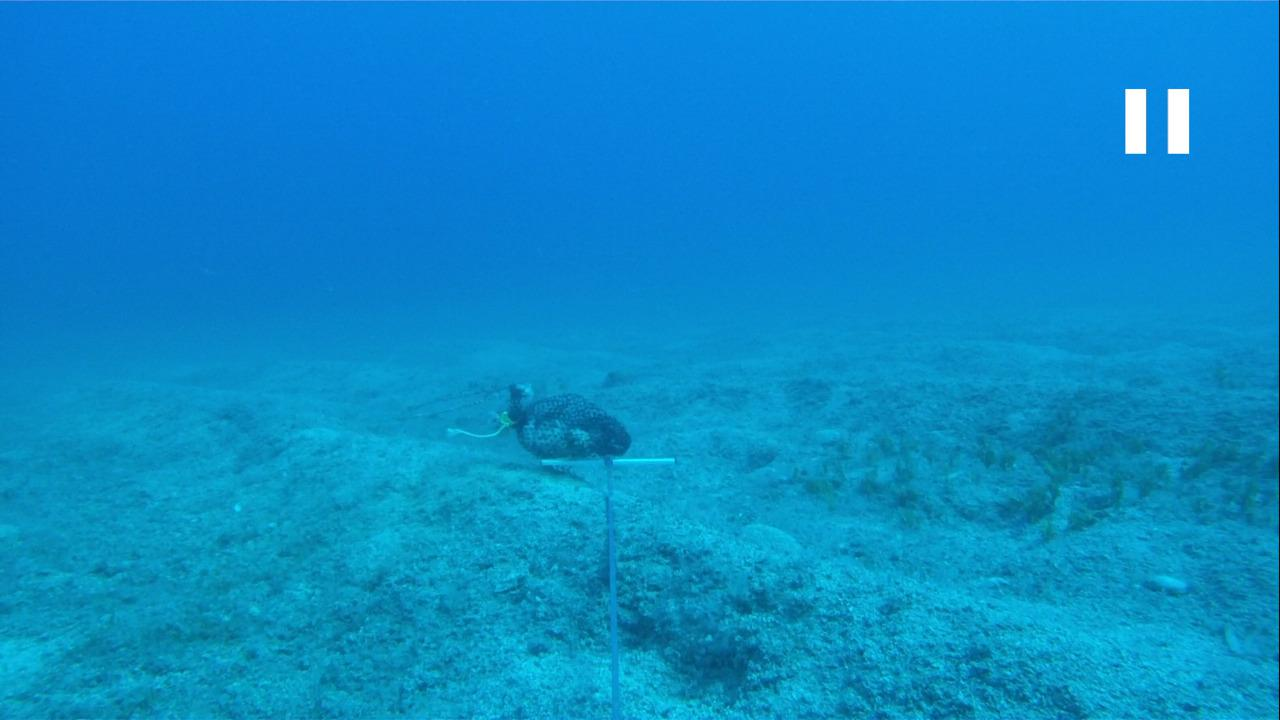dactylopterus: (371, 373, 533, 433)
